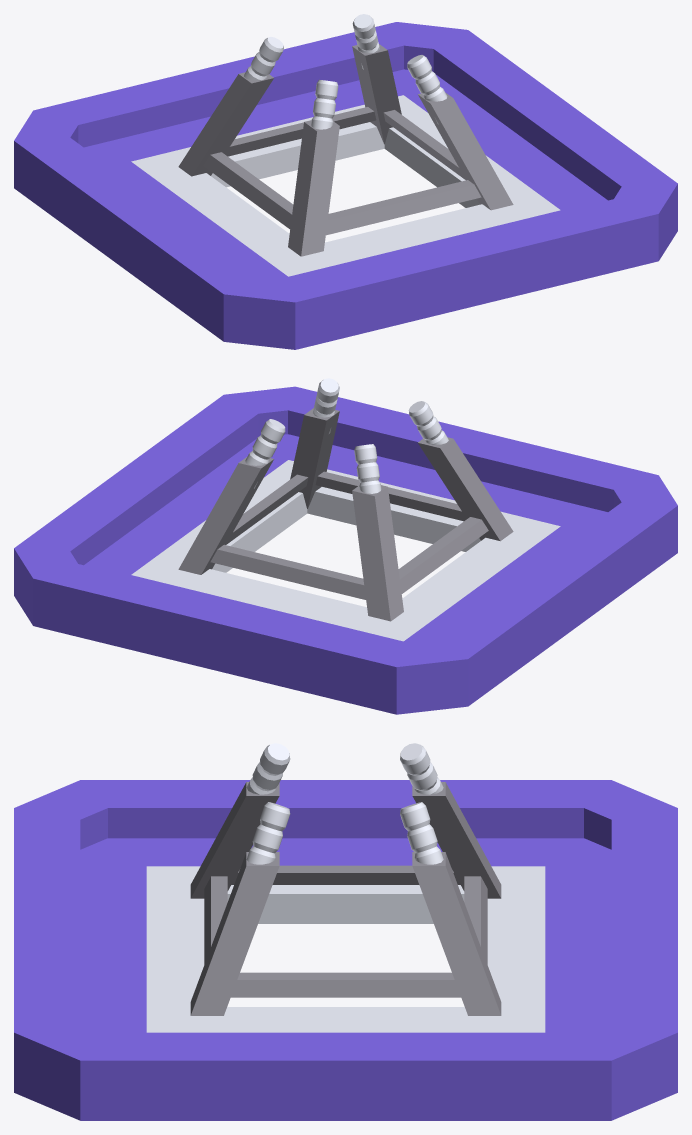
The model's file is ElectricPad.fbx.
The picture shows the model from 3 angles, top to bottom: view 1: azimuth 30°, elevation 25°; view 2: azimuth 150°, elevation 25°; view 3: azimuth 270°, elevation 25°; orthographic projection. The views are drawn at different scales.
Visible parts, largest first — view 1: mergedBlocks; view 2: mergedBlocks; view 3: mergedBlocks.
Part boxes in pixels (x1,y1,x2,y2): mergedBlocks: (14, 14, 677, 349); mergedBlocks: (14, 378, 677, 714); mergedBlocks: (14, 743, 677, 1120).
Size of the model in its own units: 0.1 by 0.0343 by 0.1.
